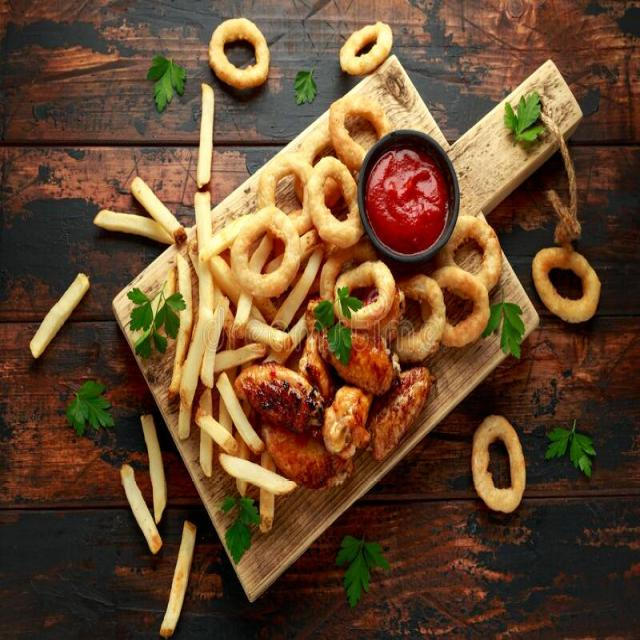Chicken Wings: (232, 318, 442, 480)
French Fries: (18, 68, 322, 631)
Onion Rings: (212, 12, 608, 522)
